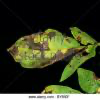Potato leaf early blight: (6, 28, 86, 70), (69, 26, 98, 48), (76, 66, 99, 93)
